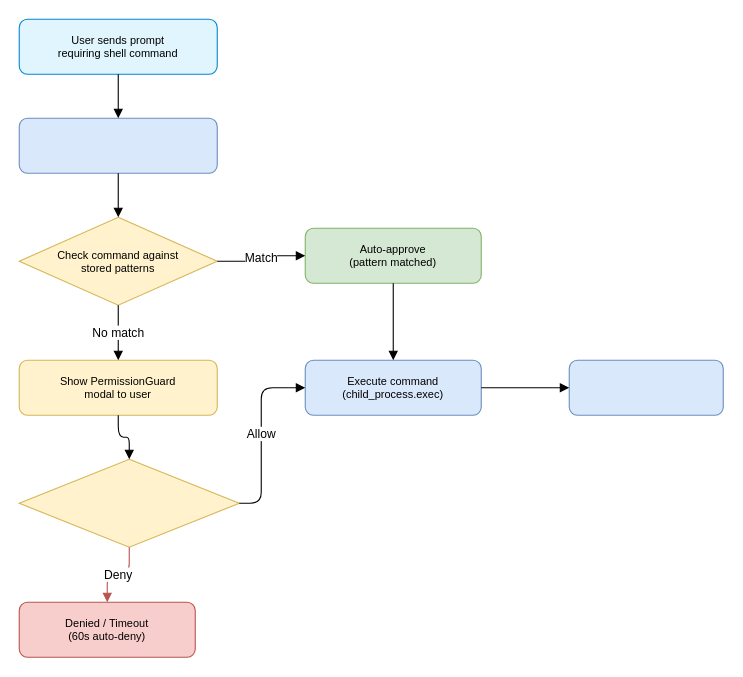
The diagram is 743 pixels wide and 677 high, and some of its shapes have lost their labels. The centre of each missing label's shape, as x and y in pixels:
LLM calls execute_shell tool: (x=117, y=145)
Return output to LLM: (x=645, y=387)
User decides: Allow / Deny / Allow Pattern: (x=128, y=502)
